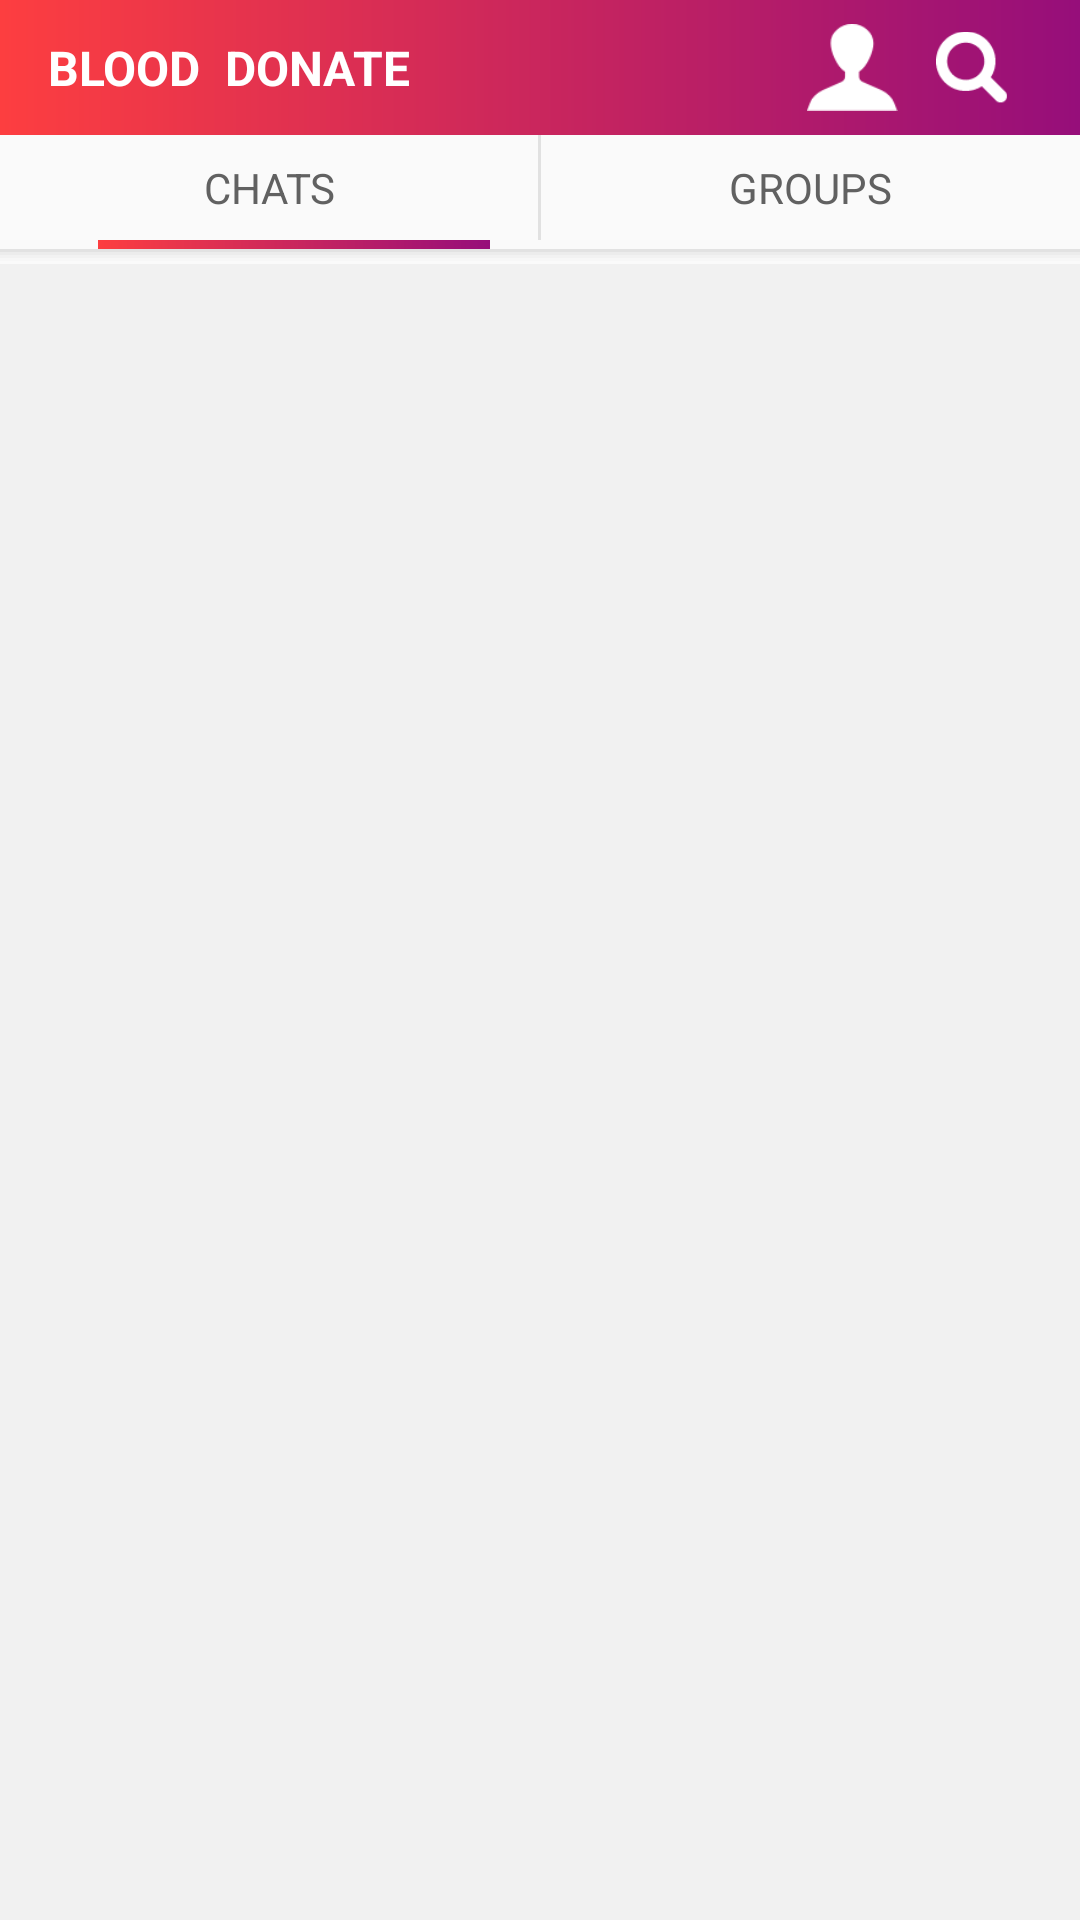

Named icons in this screenshot (1080 × 1920) and their bounding boxes, (x1, y1, x2, y2):
person: (807, 24, 898, 111)
search: (936, 32, 1007, 103)
